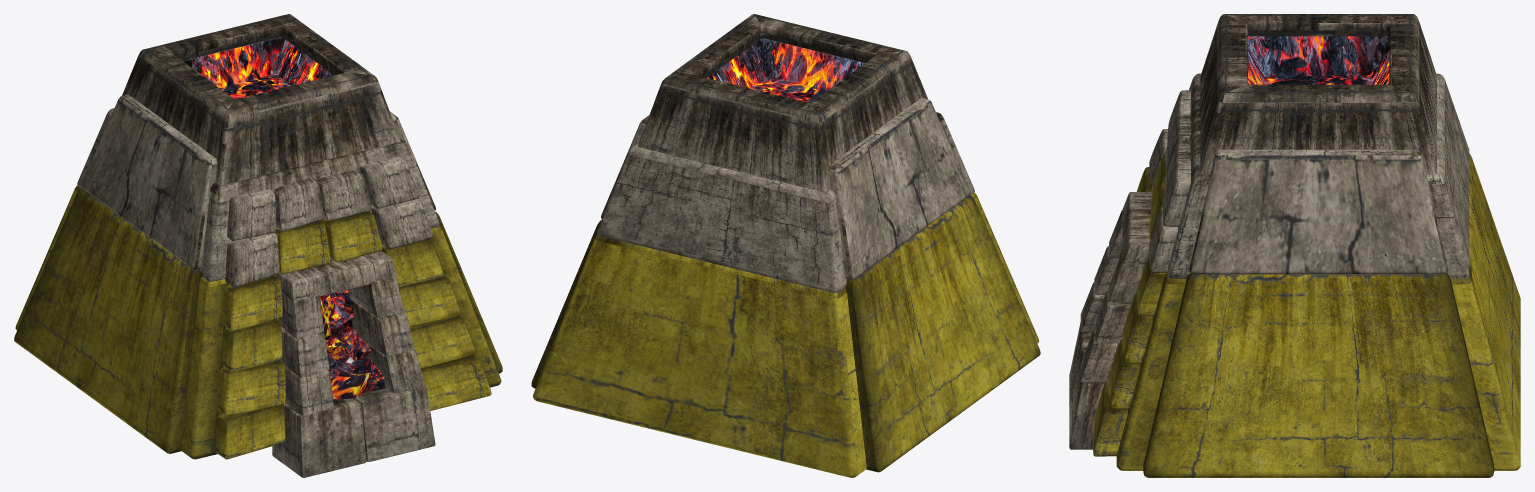
Rendered from static.glb.
3 renders of one model, left to right at view 1: azimuth 30°, elevation 25°; view 2: azimuth 150°, elevation 25°; view 3: azimuth 270°, elevation 25°, orthographic. The views are drawn at different scales.
Parts seen in each view (by area): view 1: Boole, Cube_1_4, Boole_1, Cube_1_Instance_cuts, Cube_1_Instance_cuts_1, Cube_1, Plane, Cube, Cube_8, Subdivision_Surface_3, Subdivision_Surface, Subdivision_Surface_2 (+24 smaller); view 2: Cube_1_Instance_cuts, Boole, Cube_1_4, Cube_1_Instance_cuts_1, Boole_1, Plane; view 3: Boole, Boole_1, Cube_1_4, Cube_1_Instance_cuts, Cube_1_Instance_cuts_1, Plane, Cube_8, Cube, Subdivision_Surface_2, Subdivision_Surface_4, Subdivision_Surface_6, Subdivision_Surface_16 (+12 smaller).
Part boxes in pixels (x1,y1,x2,y2): Boole: (14,188,502,453); Cube_1_4: (122,14,400,185); Boole_1: (81,94,435,269); Cube_1_Instance_cuts: (15,185,501,459); Cube_1_Instance_cuts_1: (77,108,439,281); Cube_1: (272,398,366,477); Plane: (182,37,334,99); Cube: (356,386,435,461); Cube_8: (276,250,397,302); Subdivision_Surface_3: (217,360,285,415); Subdivision_Surface: (216,405,285,459); Subdivision_Surface_2: (421,355,491,410); Cube_1_Instance_cuts: (533,192,1038,477); Boole: (531,195,1040,472); Cube_1_4: (638,14,927,192); Cube_1_Instance_cuts_1: (597,112,974,292); Boole_1: (601,97,970,280); Plane: (707,38,864,102); Boole: (1143,273,1494,477); Boole_1: (1189,149,1447,274); Cube_1_4: (1200,14,1436,174); Cube_1_Instance_cuts: (1116,153,1520,470); Cube_1_Instance_cuts_1: (1168,73,1469,278); Plane: (1248,36,1389,84); Cube_8: (1122,192,1151,267); Cube: (1069,350,1106,449); Subdivision_Surface_2: (1093,382,1127,456); Subdivision_Surface_4: (1108,339,1140,409); Subdivision_Surface_6: (1122,292,1153,363); Subdivision_Surface_16: (1163,161,1190,226).
Bounding box in the file's own units: 3.67 × 3.33 × 3.79.
4 materials, 4 textured.
